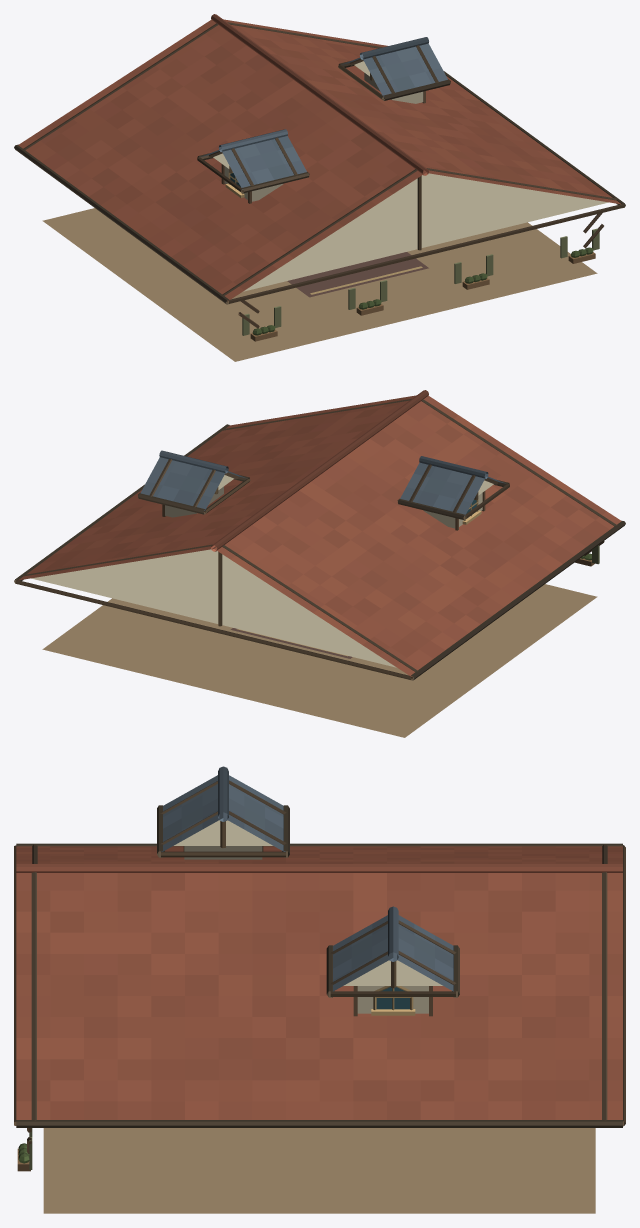
3 renders of one model, top to bottom at view 1: azimuth 30°, elevation 25°; view 2: azimuth 150°, elevation 25°; view 3: azimuth 270°, elevation 25°, orthographic. The views are drawn at different scales.
Visible parts, largest first — view 1: 525e50fb79ba4bbbe77642fbdb20c9a3382996016cd542f68e4845a8764b; view 2: 525e50fb79ba4bbbe77642fbdb20c9a3382996016cd542f68e4845a8764b; view 3: 525e50fb79ba4bbbe77642fbdb20c9a3382996016cd542f68e4845a8764b.
Boxes of the visible parts, x1=… form: 525e50fb79ba4bbbe77642fbdb20c9a3382996016cd542f68e4845a8764b: x1=14, y1=14, x2=625, y2=361; 525e50fb79ba4bbbe77642fbdb20c9a3382996016cd542f68e4845a8764b: x1=14, y1=390, x2=625, y2=737; 525e50fb79ba4bbbe77642fbdb20c9a3382996016cd542f68e4845a8764b: x1=14, y1=766, x2=625, y2=1213.
Bounding box in the file's own units: 14.02 × 5.32 × 12.97.
Materials: 6 (1 with a texture image).
